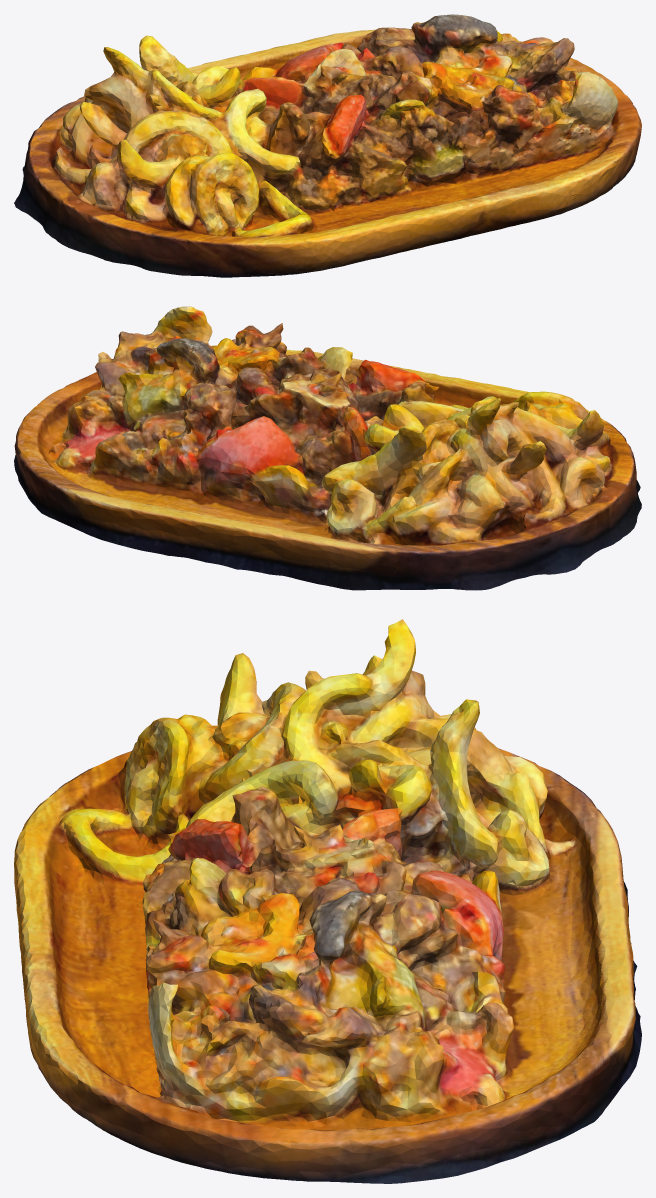
The model's file is Asun (goat meat) and curly fries .glb.
3 renders of one model, top to bottom at view 1: azimuth 30°, elevation 25°; view 2: azimuth 150°, elevation 25°; view 3: azimuth 270°, elevation 25°, orthographic. The views are drawn at different scales.
Visible parts, largest first — view 1: Mesh_0.006; view 2: Mesh_0.006; view 3: Mesh_0.006.
Part boxes in pixels (<box>): Mesh_0.006: <box>14,14,641,277</box>; Mesh_0.006: <box>14,306,641,590</box>; Mesh_0.006: <box>14,619,641,1183</box>.
Bounding box in the file's own units: 0.2607 × 0.0706 × 0.1744.
Materials: 1 (1 with a texture image).
